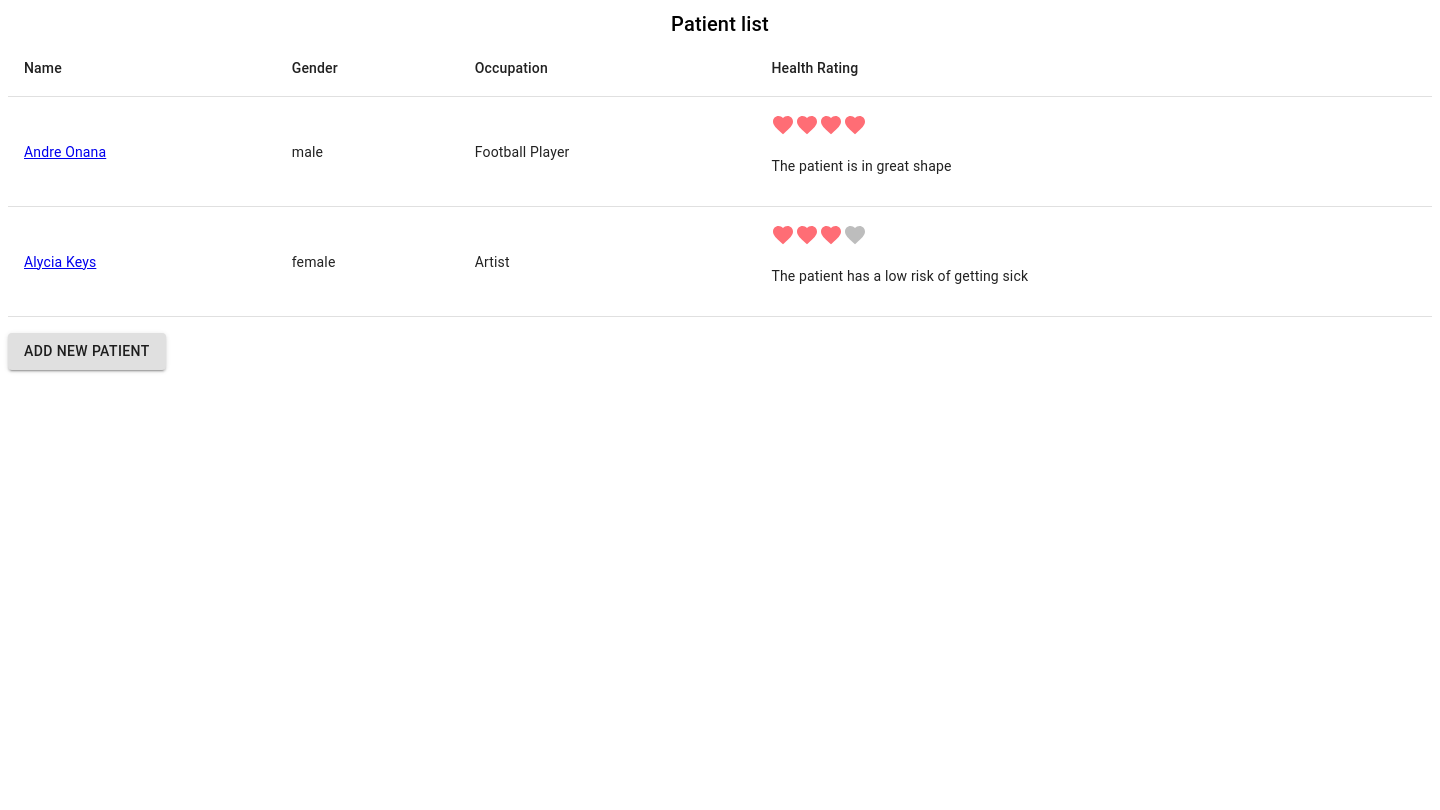
Test case: <PatientListPage /> for logged in users › clicking add new patient button opens add patient form modal
The width and height of the screenshot is (1440, 810).
expect the text "Add New Patient" is shown: met, box [24, 339, 150, 364]
Click the button "Add New Patient" at coordinates (87, 351), box [8, 333, 166, 370]
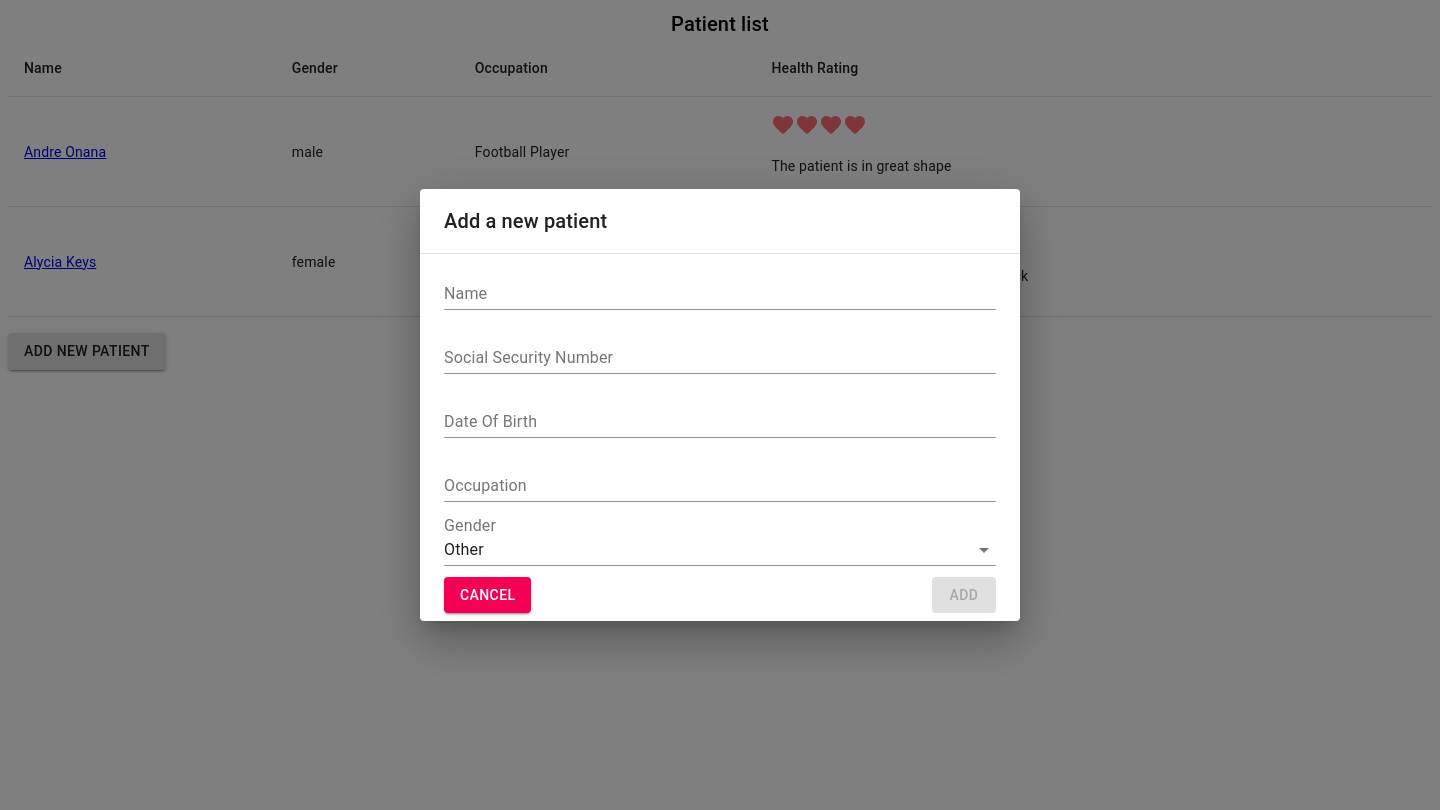
expect the dialog is shown: met, box [420, 189, 1020, 621]
expect the heading "Add a new patient" is shown: met, box [444, 209, 607, 233]
